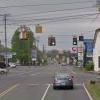Car: (43, 65, 77, 90)
